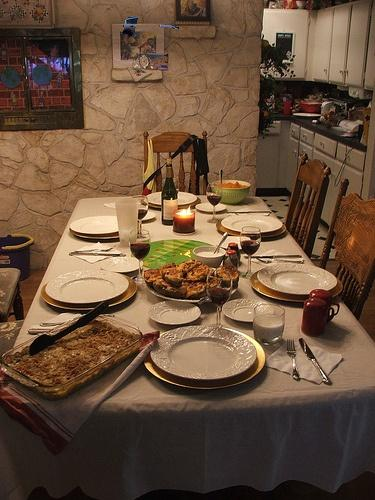tampered: (124, 17, 179, 37)
